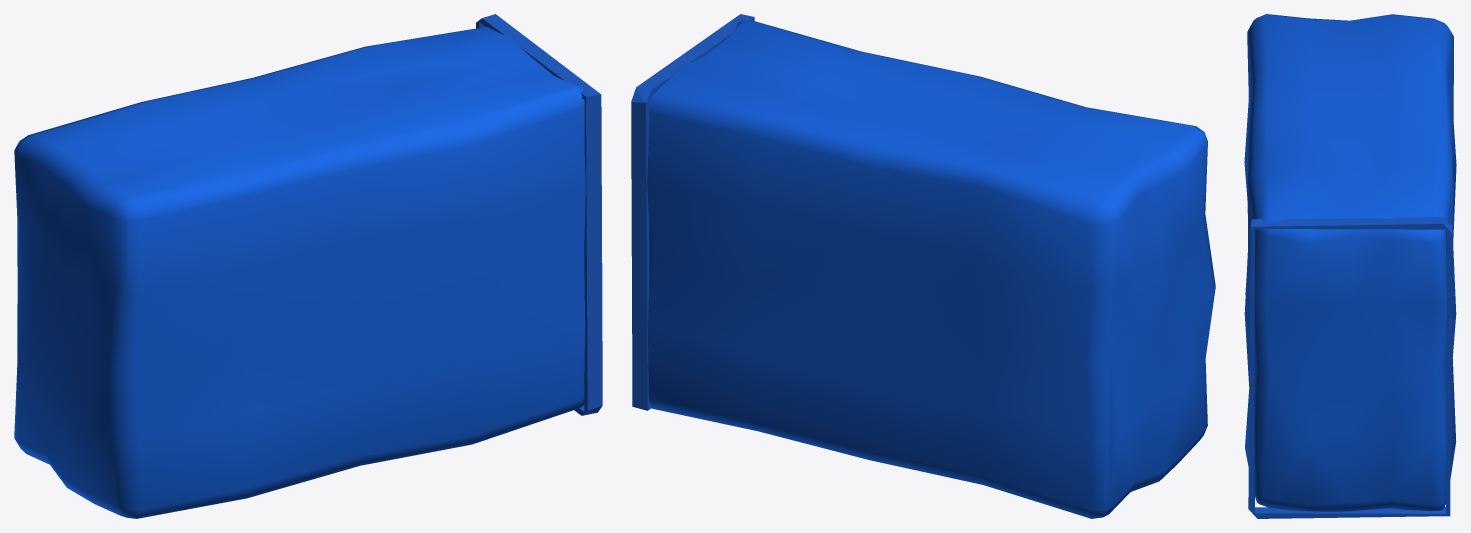
Rendered from Battery_LOD1.glb.
3 renders of one model, left to right at view 1: azimuth 30°, elevation 25°; view 2: azimuth 150°, elevation 25°; view 3: azimuth 270°, elevation 25°, orthographic. The views are drawn at different scales.
Parts seen in each view (by area): view 1: Battery_LOD1.001; view 2: Battery_LOD1.001; view 3: Battery_LOD1.001.
Part boxes in pixels (bbox=[...]): Battery_LOD1.001: bbox=[14, 14, 602, 518]; Battery_LOD1.001: bbox=[631, 14, 1215, 518]; Battery_LOD1.001: bbox=[1244, 14, 1456, 518].
Bounding box in the file's own units: 0.1478 × 0.0949 × 0.0608.
